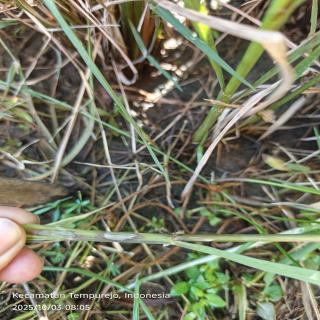Busuk-Pelepah: (28, 228, 168, 242)
